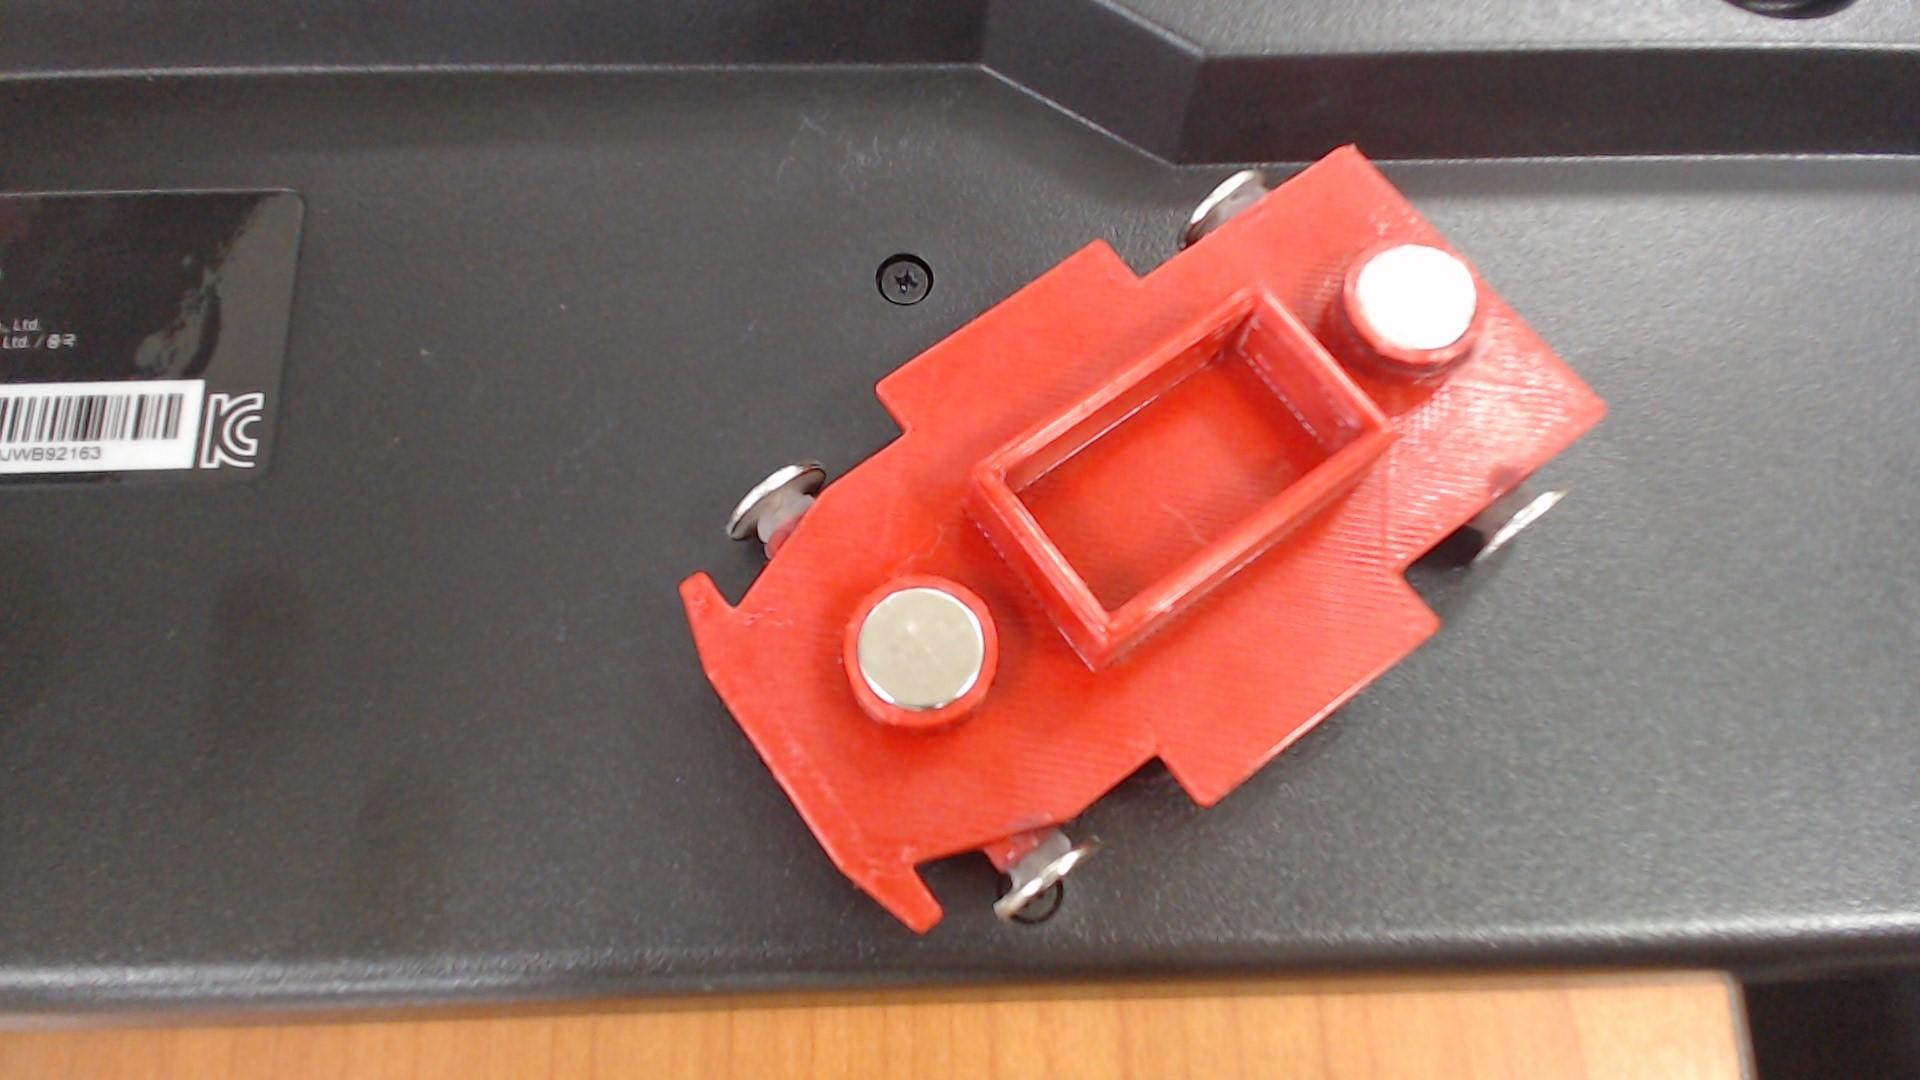lower_ok: (949, 269, 1428, 698)
